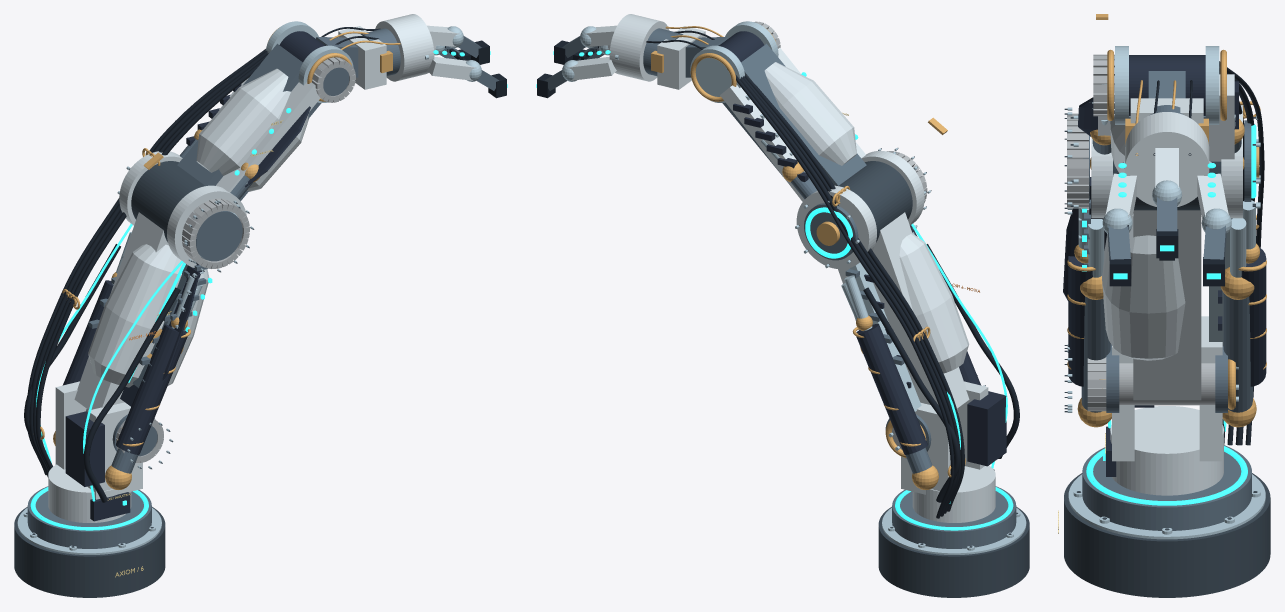
The model's file is AXIOM-6-PRO-Industrial-Robotic-Arm.glb.
3 views of the same model, side by side, from view 1: azimuth 30°, elevation 25°; view 2: azimuth 150°, elevation 25°; view 3: azimuth 270°, elevation 25° (orthographic). The views are drawn at different scales.
Visible parts, largest first — view 1: 11 / bespoke upper ceramic exoshell, 01 | heavyweight anti-vibration base, 11 / CNC lower forearm fairing, 01 | yaw index dial, 13 / servo hydraulic triple-stage barrel.001, 04 | elbow rotor main, 03 | tapered ceramic upper arm chassis, 07 | gripper palm motor, 09 | servo CANBUS braided line 0, 02 | shoulder rear cover, 01 | shoulder riser, 05 | forged forearm inner chassis (+22 smaller); view 2: 01 | heavyweight anti-vibration base, 11 / bespoke upper ceramic exoshell, 11 / CNC lower forearm fairing, 01 | yaw index dial, 03 | tapered ceramic upper arm chassis, 13 / servo hydraulic triple-stage barrel, 01 | shoulder riser, 04 | elbow rotor main, 02 | shoulder rear cover, 05 | forged forearm inner chassis, 04 | ceramic joint cover, 07 | gripper palm motor (+20 smaller); view 3: 01 | heavyweight anti-vibration base, 11 / bespoke upper ceramic exoshell, 01 | shoulder riser, 03 | tapered ceramic upper arm chassis, 01 | yaw index dial, 07 | gripper palm motor, 01 | base chrome chamfer, 08 | primary hydraulic reservoir, 06 | wrist roll coupling, 13 / servo hydraulic triple-stage barrel, 02 | cast shoulder yoke, 13 / servo hydraulic triple-stage barrel.001 (+45 smaller).
Part boxes in pixels (box(x1,y1,x2,y2)): 11 / bespoke upper ceramic exoshell: box(88, 244, 209, 387); 01 | heavyweight anti-vibration base: box(14, 507, 165, 597); 11 / CNC lower forearm fairing: box(196, 68, 308, 191); 01 | yaw index dial: box(27, 486, 151, 548); 13 / servo hydraulic triple-stage barrel.001: box(116, 324, 187, 454); 04 | elbow rotor main: box(131, 161, 205, 242); 03 | tapered ceramic upper arm chassis: box(74, 212, 168, 409); 07 | gripper palm motor: box(375, 14, 434, 81); 09 | servo CANBUS braided line 0: box(35, 60, 263, 470); 02 | shoulder rear cover: box(65, 411, 104, 486); 01 | shoulder riser: box(48, 464, 131, 522); 05 | forged forearm inner chassis: box(177, 43, 321, 200); 01 | heavyweight anti-vibration base: box(878, 507, 1029, 597); 11 / bespoke upper ceramic exoshell: box(899, 233, 968, 373); 11 / CNC lower forearm fairing: box(764, 62, 856, 165); 01 | yaw index dial: box(892, 486, 1016, 548); 03 | tapered ceramic upper arm chassis: box(838, 212, 969, 408); 13 / servo hydraulic triple-stage barrel: box(856, 324, 927, 454); 01 | shoulder riser: box(912, 465, 995, 522); 04 | elbow rotor main: box(838, 161, 912, 242); 02 | shoulder rear cover: box(967, 391, 1006, 466); 05 | forged forearm inner chassis: box(722, 43, 866, 185); 04 | ceramic joint cover: box(796, 185, 876, 269); 07 | gripper palm motor: box(609, 14, 669, 81); 01 | heavyweight anti-vibration base: box(1064, 473, 1270, 597); 11 / bespoke upper ceramic exoshell: box(1102, 214, 1185, 360); 01 | shoulder riser: box(1110, 406, 1223, 495); 03 | tapered ceramic upper arm chassis: box(1133, 210, 1201, 400); 01 | yaw index dial: box(1082, 445, 1251, 530); 07 | gripper palm motor: box(1125, 112, 1209, 206); 01 | base chrome chamfer: box(1068, 474, 1265, 539); 08 | primary hydraulic reservoir: box(1223, 293, 1252, 412); 06 | wrist roll coupling: box(1129, 55, 1205, 115); 13 / servo hydraulic triple-stage barrel: box(1241, 247, 1266, 386); 02 | cast shoulder yoke: box(1199, 316, 1222, 461); 13 / servo hydraulic triple-stage barrel.001: box(1068, 256, 1092, 386).
Size of the model in its own units: 1.7 by 1.67 by 0.4925.
